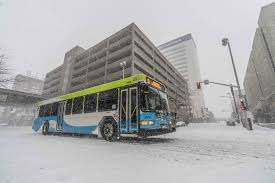bus: (32, 72, 174, 141)
